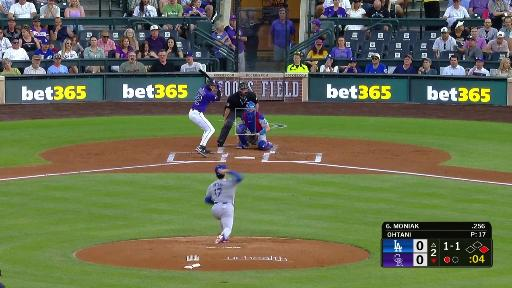pitcher: (204, 165, 245, 245)
